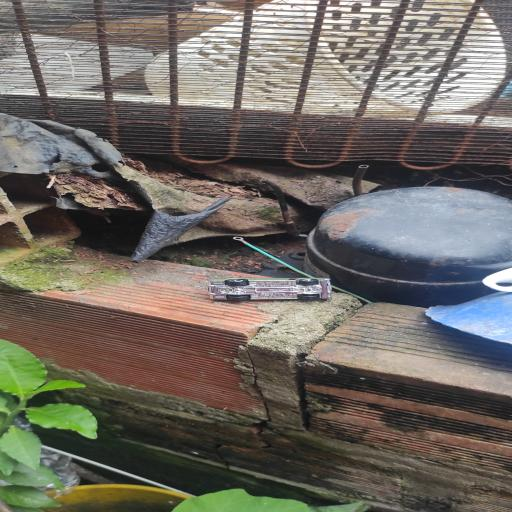Carrito: (208, 278, 331, 302)
